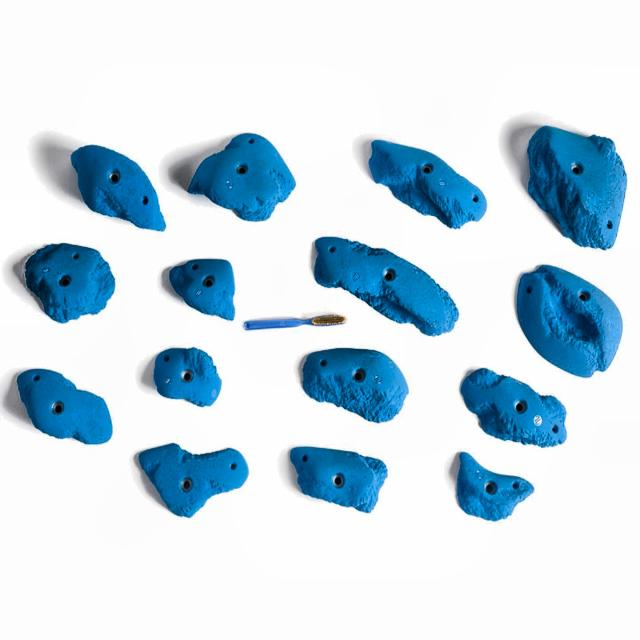Hold: (317, 238, 463, 338), (525, 118, 625, 254), (369, 136, 490, 231), (522, 267, 622, 375), (296, 343, 412, 422), (192, 129, 292, 220), (460, 369, 571, 450), (136, 444, 250, 519), (70, 142, 169, 228), (17, 368, 115, 449), (282, 446, 387, 514), (27, 242, 114, 314), (456, 450, 534, 520), (167, 260, 238, 321), (150, 348, 222, 404)
